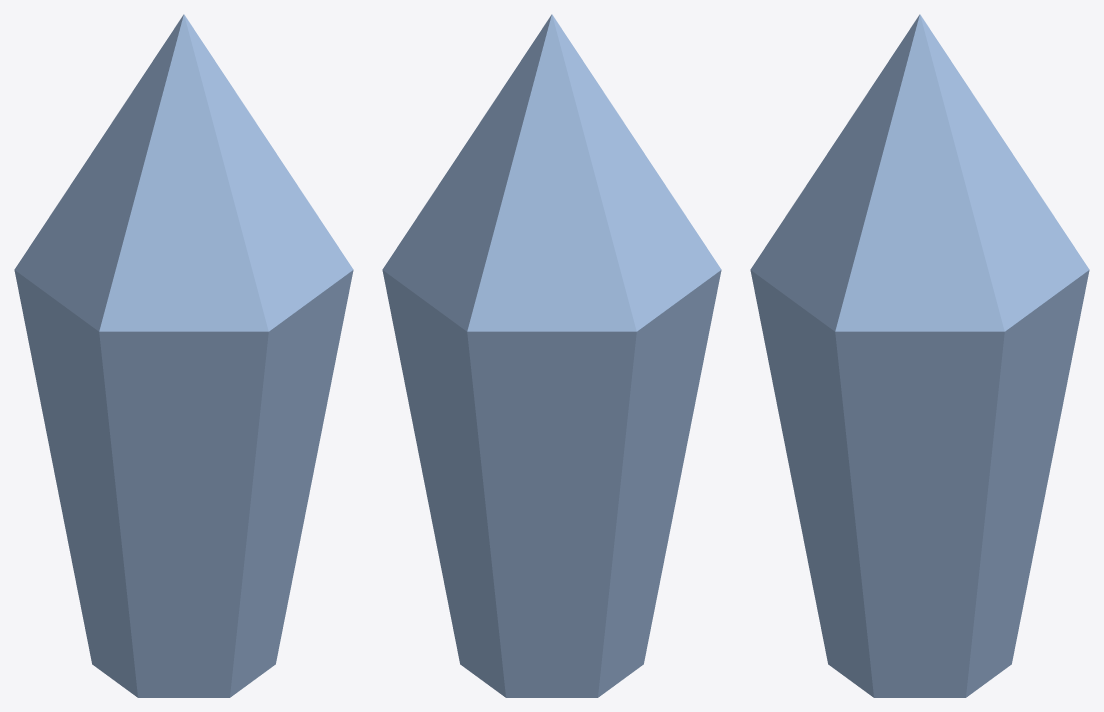
Rendered from crystal_13.fbx.
The picture shows the model from 3 angles, left to right: view 1: azimuth 30°, elevation 25°; view 2: azimuth 150°, elevation 25°; view 3: azimuth 270°, elevation 25°; orthographic projection.
Parts seen in each view (by area): view 1: crystal_13; view 2: crystal_13; view 3: crystal_13.
Part boxes in pixels (<box>): crystal_13: <box>14,14,353,697</box>; crystal_13: <box>382,14,721,697</box>; crystal_13: <box>750,14,1089,697</box>.
Bounding box in the file's own units: 31.76 × 77.6 × 36.67.
